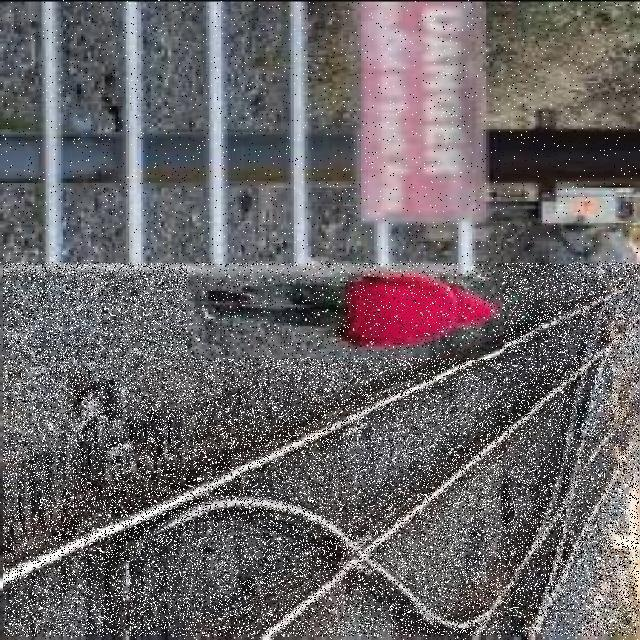danger: (187, 265, 503, 358)
rail: (3, 264, 640, 636)
